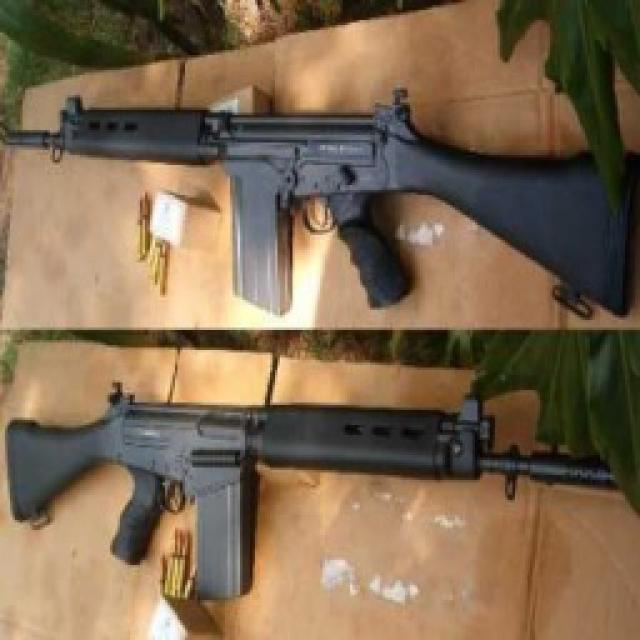long weapon: (0, 69, 565, 323), (0, 372, 583, 583)
